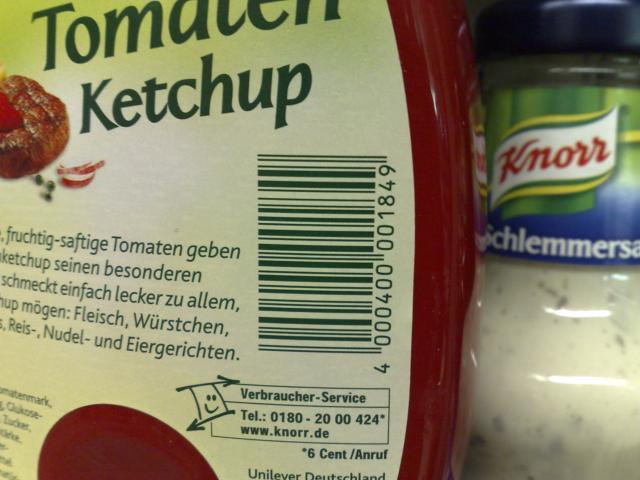Barcode: (246, 140, 405, 381)
